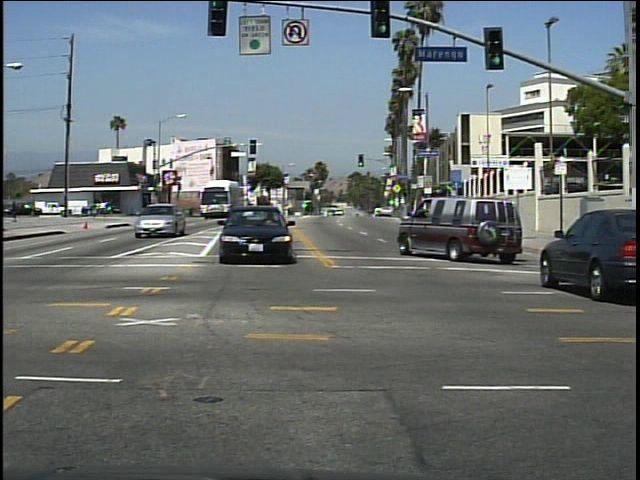person: (8, 198, 24, 227)
